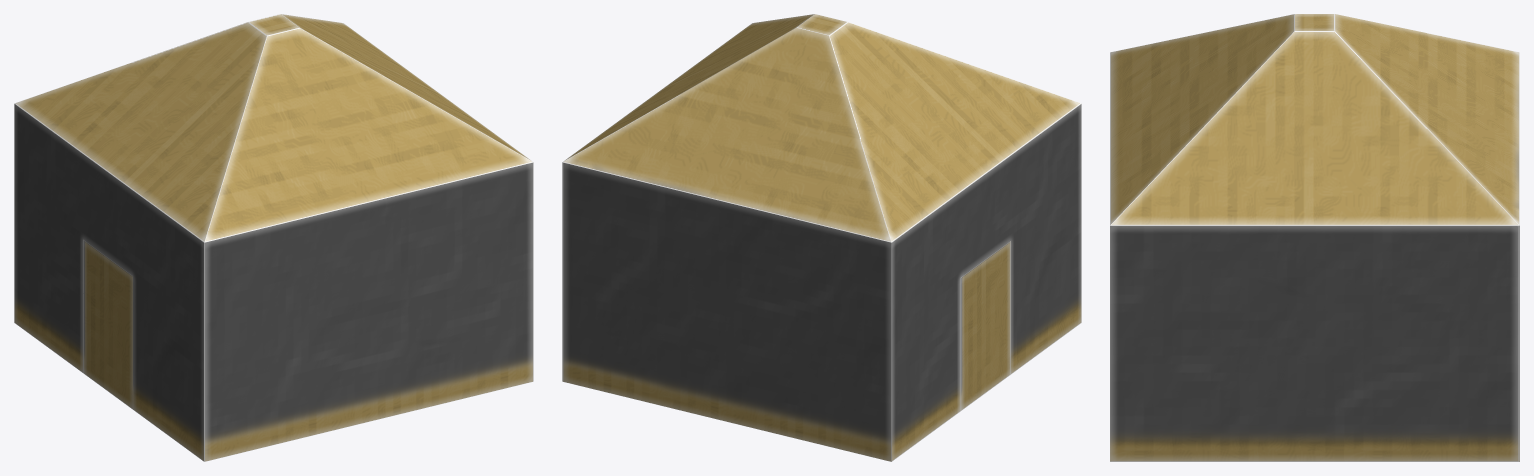
The model's file is houseMesh.FBX.
The picture shows the model from 3 angles, left to right: view 1: azimuth 30°, elevation 25°; view 2: azimuth 150°, elevation 25°; view 3: azimuth 270°, elevation 25°; orthographic projection. The views are drawn at different scales.
Parts seen in each view (by area): view 1: House; view 2: House; view 3: House.
Boxes of the visible parts, <box> form: House: <box>14,14,533,461</box>; House: <box>562,14,1081,461</box>; House: <box>1110,14,1519,461</box>.
Size of the model in its own units: 15.55 by 14.77 by 15.55.
Materials: 1 (1 with a texture image).
